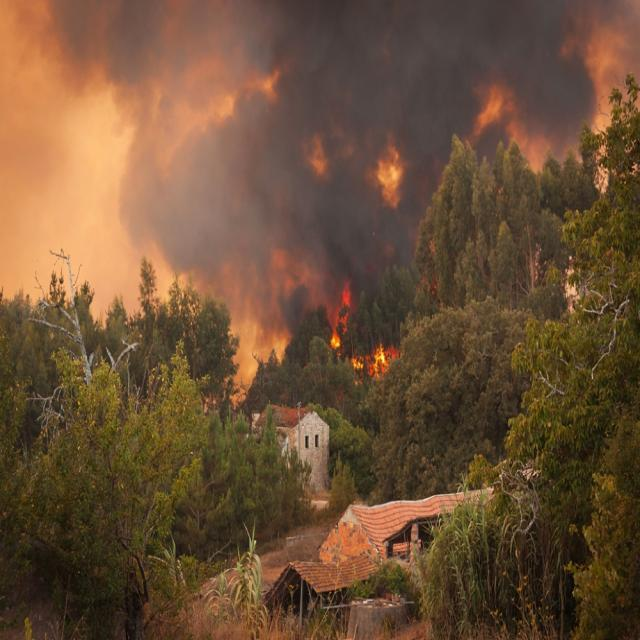Smoke: (144, 14, 567, 198)
